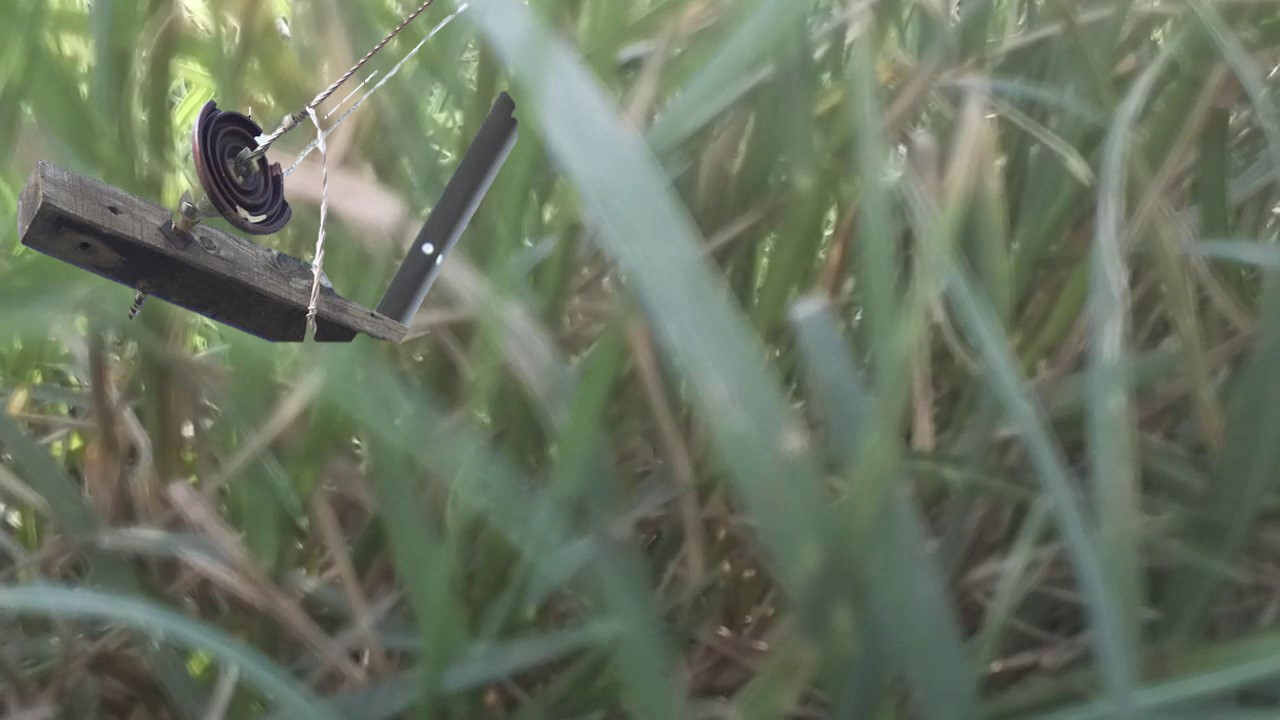defect_disc: (184, 96, 301, 240)
